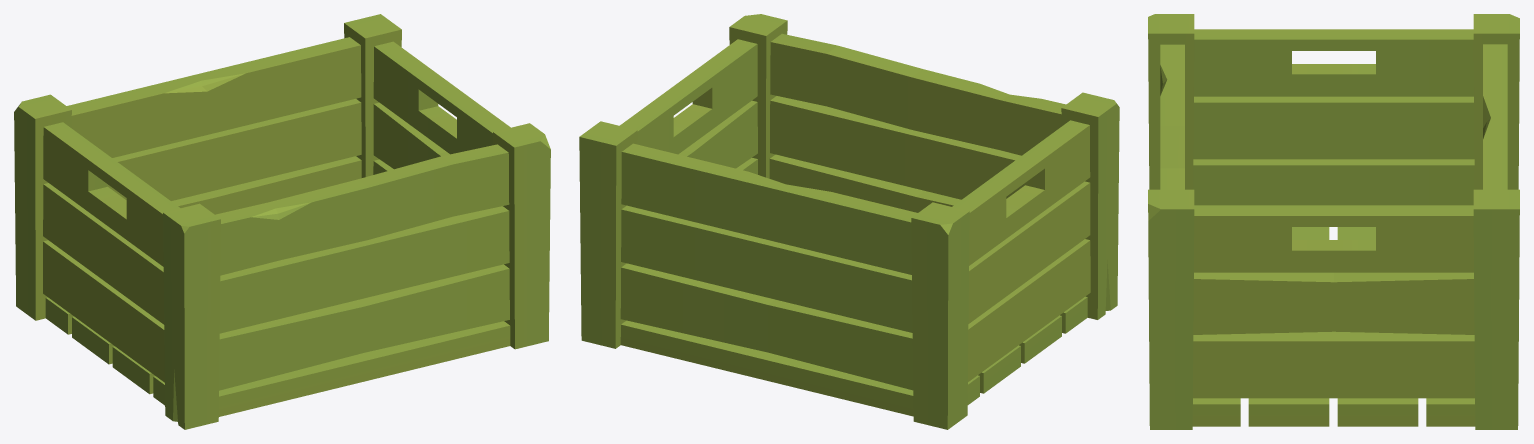
The picture shows the model from 3 angles, left to right: view 1: azimuth 30°, elevation 25°; view 2: azimuth 150°, elevation 25°; view 3: azimuth 270°, elevation 25°; orthographic projection. The views are drawn at different scales.
Parts seen in each view (by area): view 1: Box_06; view 2: Box_06; view 3: Box_06.
Boxes of the visible parts, bbox=[...] form: Box_06: bbox=[14, 14, 550, 429]; Box_06: bbox=[579, 14, 1119, 429]; Box_06: bbox=[1148, 14, 1519, 429].
Size of the model in its own units: 0.666 by 0.3518 by 0.5355.
